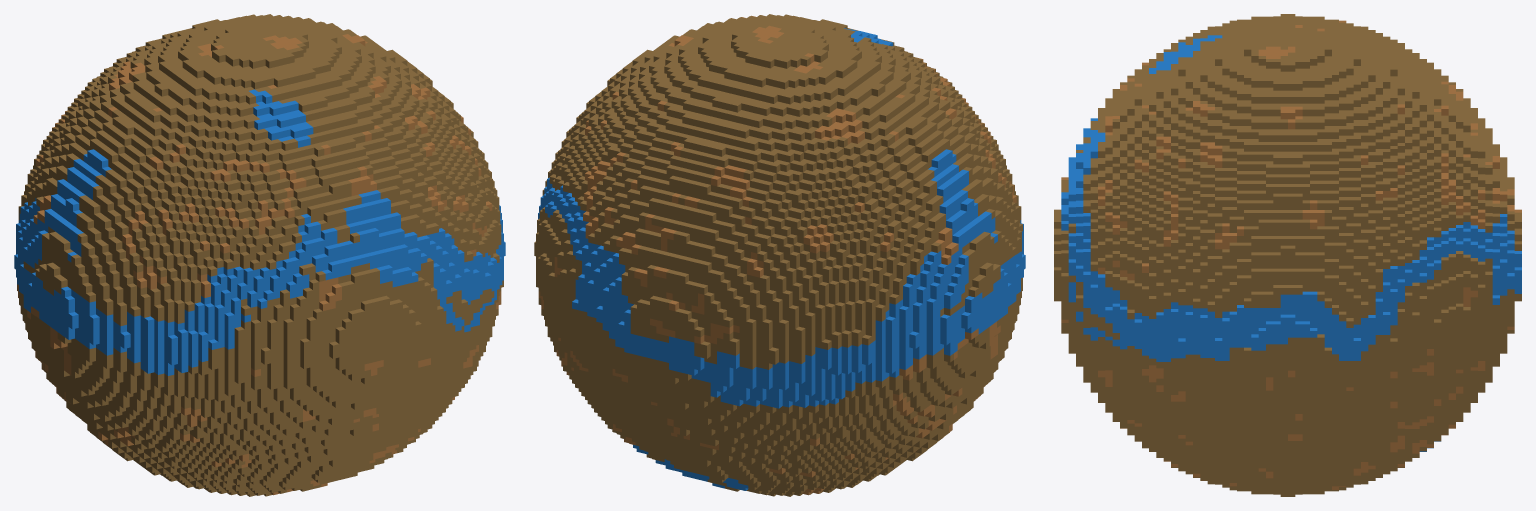
File: Ground.fbx
3 views of the same model, side by side, from view 1: azimuth 30°, elevation 25°; view 2: azimuth 150°, elevation 25°; view 3: azimuth 270°, elevation 25° (orthographic).
Visible parts, largest first — view 1: Ground; view 2: Ground; view 3: Ground.
Part boxes in pixels (x1,y1,x2,y2): Ground: [14, 14, 505, 496]; Ground: [534, 14, 1025, 496]; Ground: [1054, 14, 1521, 496].
Bounding box in the file's own units: 66 × 64 × 64.
1 material, 1 textured.
